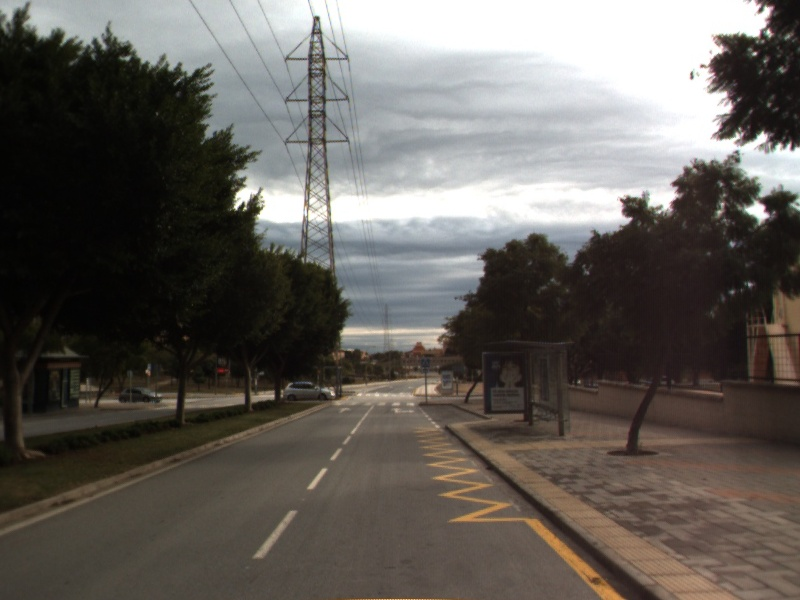STRAIGHT: (335, 405, 354, 415)
STRAIGHT_RIGHT: (388, 405, 417, 415)
